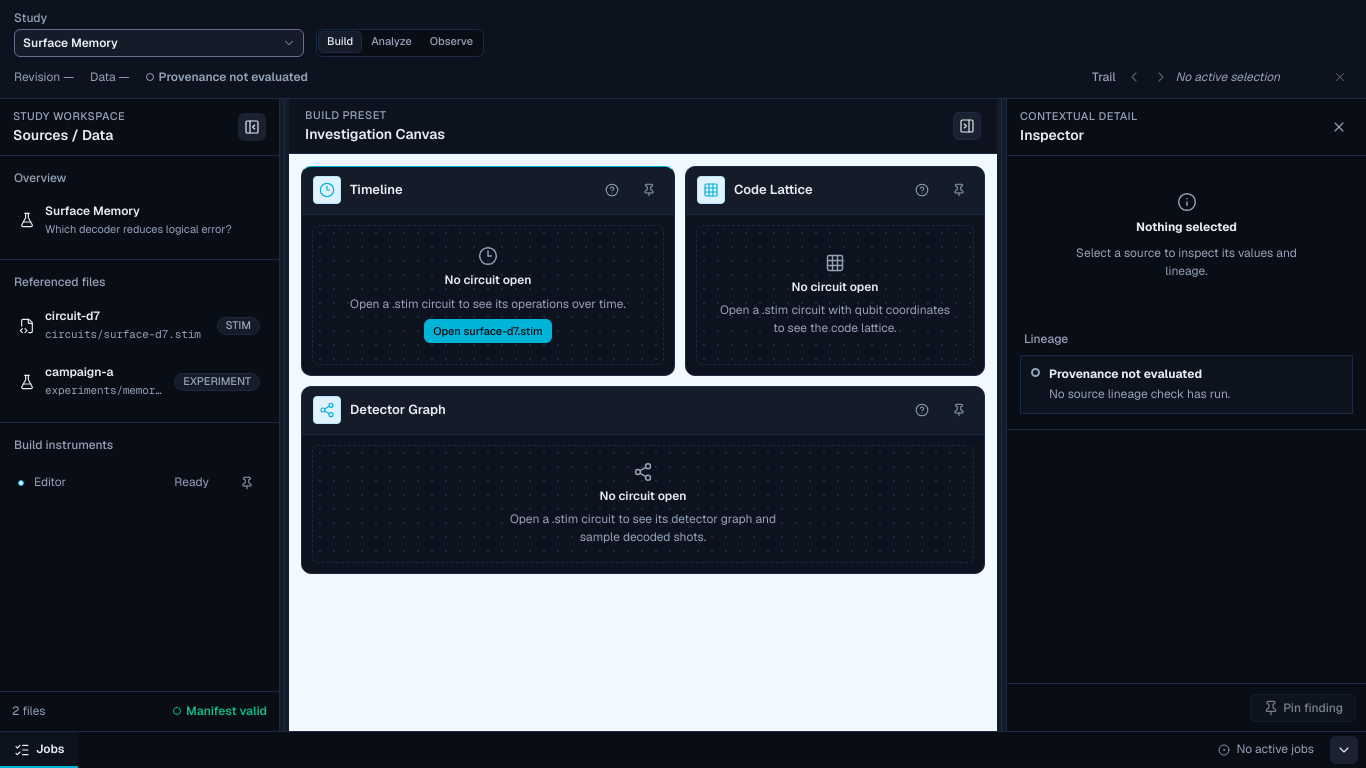
<QecWorkbench /> › uses the active Study and panel registry to populate shell instruments
Expected: the dropdown named "Active QEC Study" shows "Surface Memory", [14, 29, 304, 57]
Expected: the heading "Timeline" is shown, [350, 181, 403, 200]
Click the radio button labelled "Analyze" at (391, 42), box [363, 32, 420, 52]
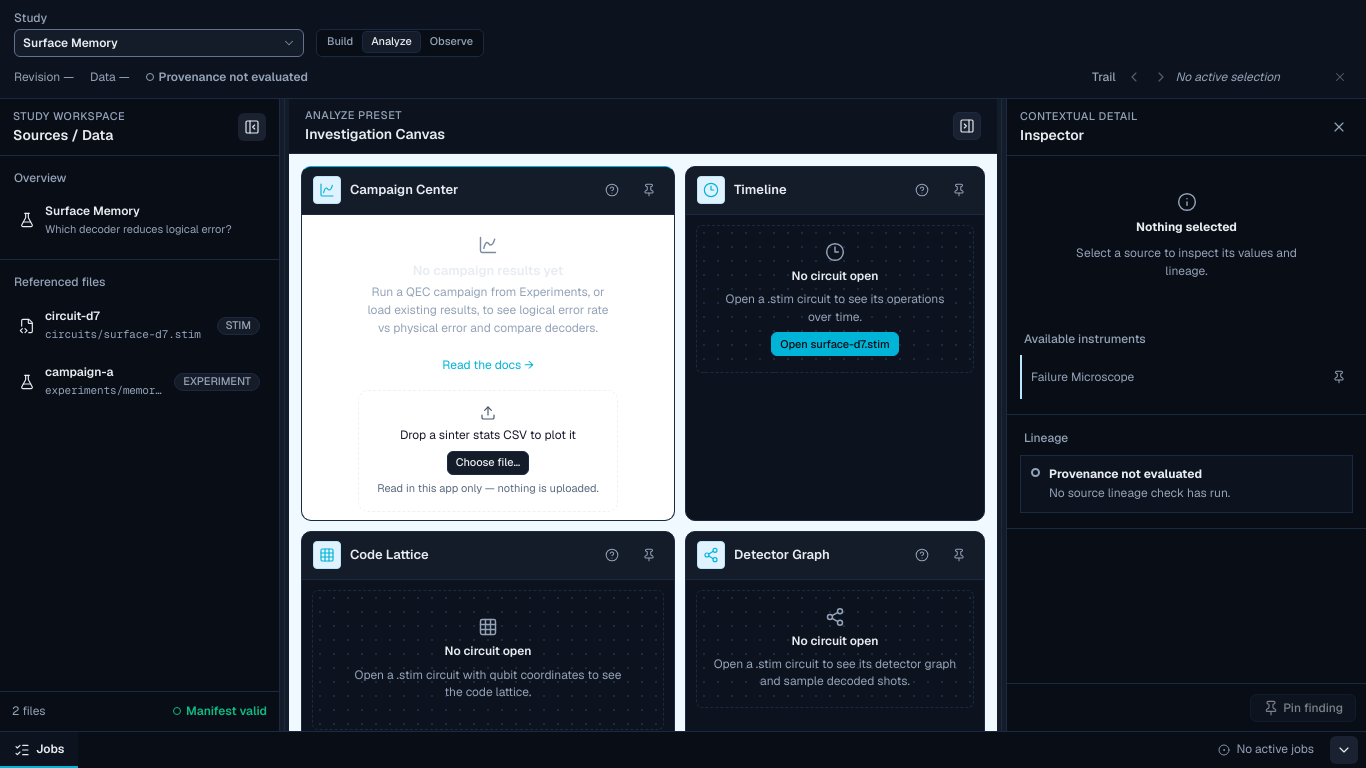
Expected: the heading "Campaign Center" is shown, [350, 181, 458, 200]
